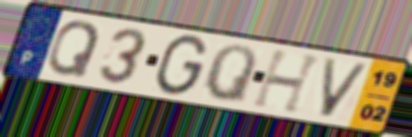3: (96, 27, 148, 86)
G: (151, 33, 210, 98)
H: (249, 48, 326, 116)
Q: (201, 43, 260, 107), (45, 18, 104, 80)
V: (318, 56, 373, 120)
